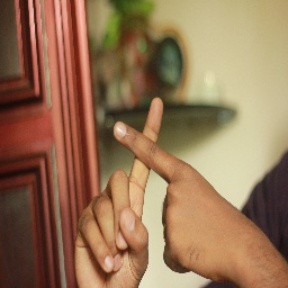X: (82, 89, 222, 232)
